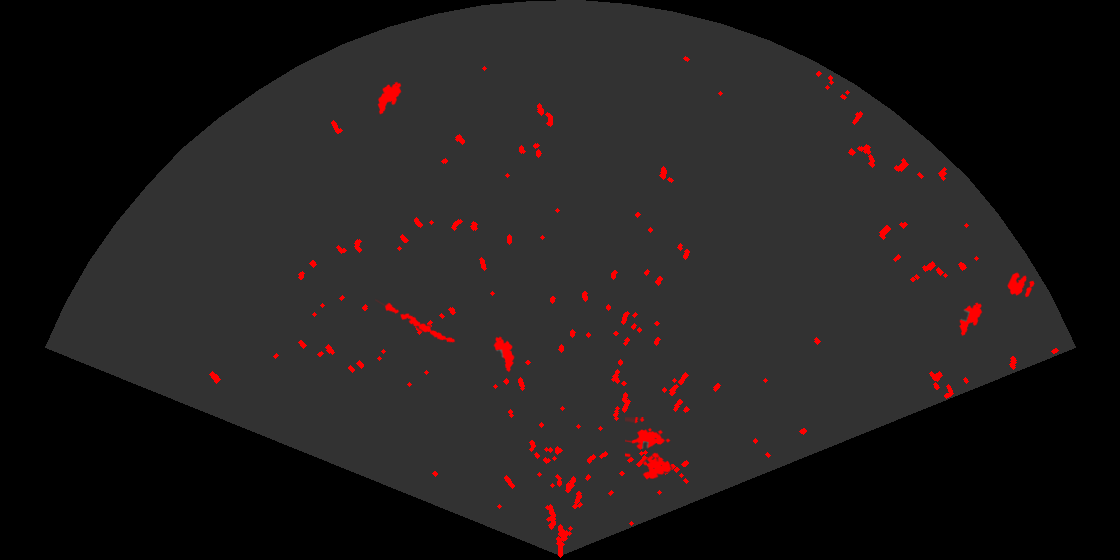AUV: (376, 80, 403, 116), (958, 301, 984, 338), (492, 335, 516, 374)
ball: (1006, 270, 1036, 299)
cage: (625, 417, 673, 481)
chain: (375, 298, 457, 344)
